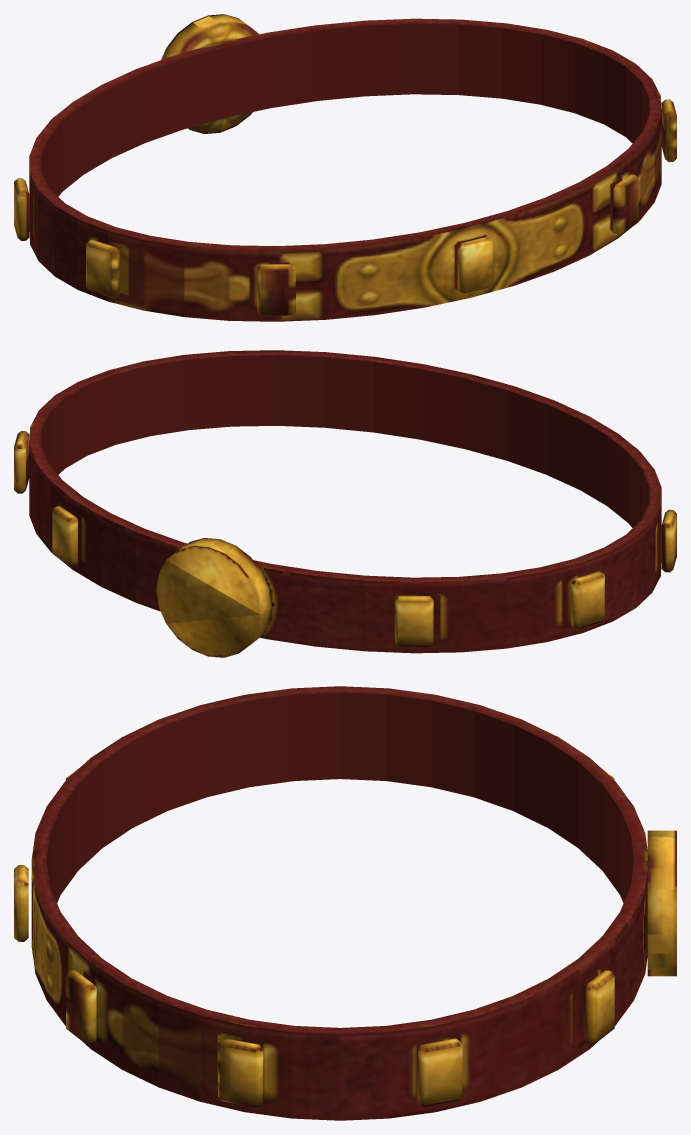
Rendered from item_mm9_10208.glb.
3 views of the same model, one above another, from view 1: azimuth 30°, elevation 25°; view 2: azimuth 150°, elevation 25°; view 3: azimuth 270°, elevation 25° (orthographic). The views are drawn at different scales.
Visible parts, largest first — view 1: d10208; view 2: d10208; view 3: d10208.
Boxes of the visible parts, x1=… form: d10208: x1=14, y1=14, x2=676, y2=321; d10208: x1=14, y1=350, x2=676, y2=657; d10208: x1=14, y1=686, x2=676, y2=1120.
Bounding box in the file's own units: 61.2 × 10.83 × 48.86.
1 material, 1 textured.
